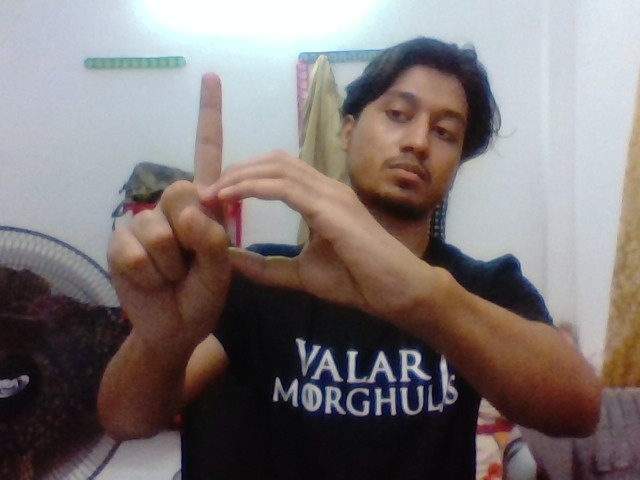D: (132, 61, 349, 304)
